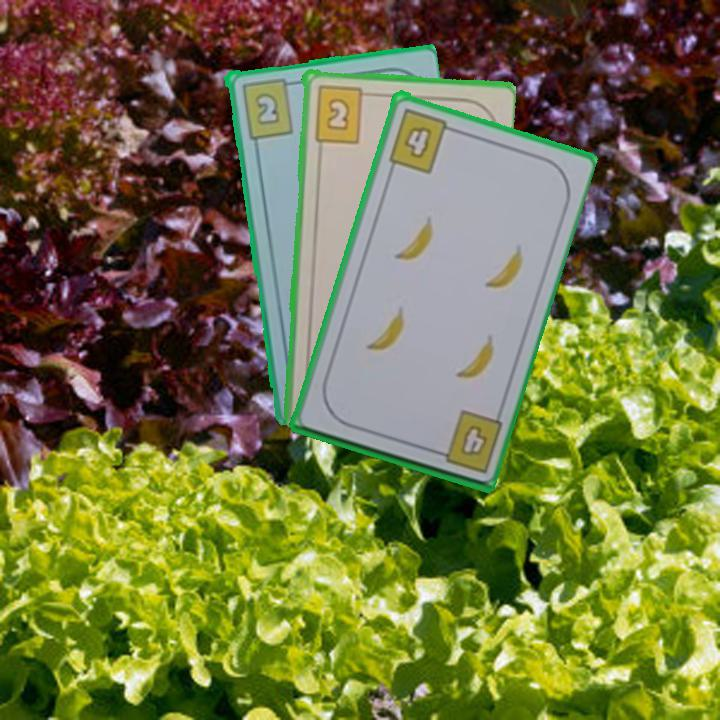2b: (237, 74, 299, 141), (310, 82, 374, 145)
4b: (385, 104, 459, 175), (456, 420, 490, 459)
